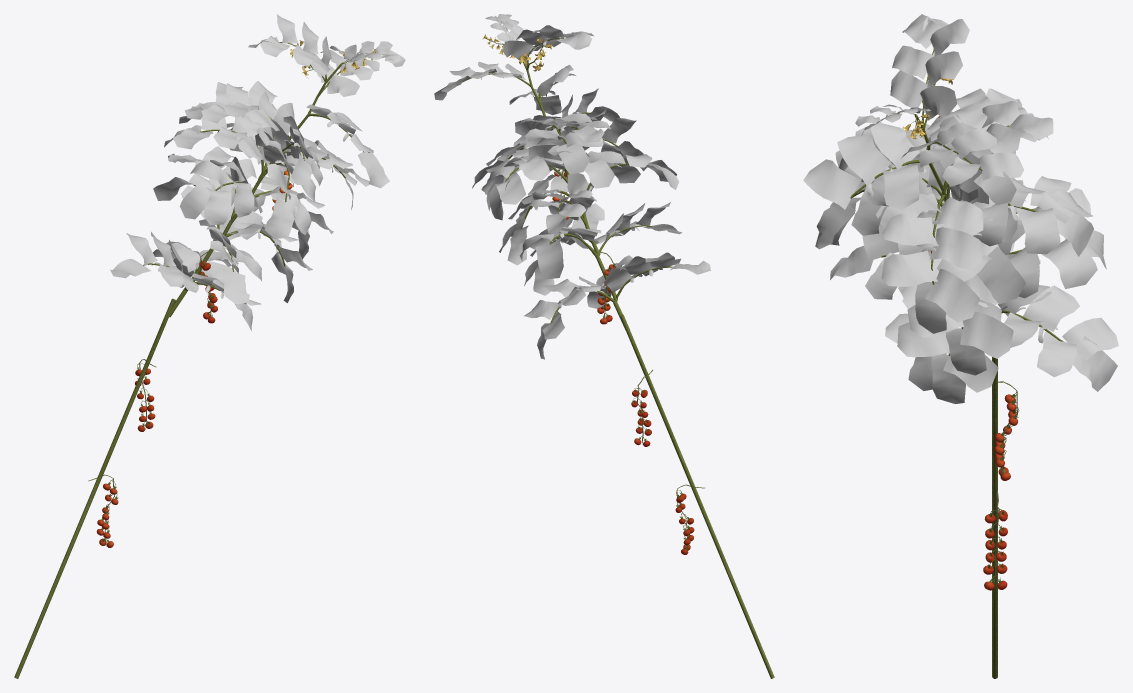
File: tomato_vine_repo_v9.dae
The picture shows the model from 3 angles, left to right: view 1: azimuth 30°, elevation 25°; view 2: azimuth 150°, elevation 25°; view 3: azimuth 270°, elevation 25°; orthographic projection. The views are drawn at different scales.
Parts seen in each view (by area): view 1: Leaf1, Branch1, Sphere.001; view 2: Leaf1, Branch1, Sphere.001; view 3: Leaf1, Branch1, Sphere.001.
Part boxes in pixels (x1,y1,x2,y2): Leaf1: (110,14,405,330); Branch1: (14,42,385,678); Sphere.001: (96,261,217,547); Leaf1: (434,14,710,359); Branch1: (461,21,774,678); Sphere.001: (597,264,694,554); Leaf1: (803,14,1118,403); Branch1: (850,48,1063,678); Sphere.001: (983,394,1017,590).
Size of the model in its own units: 1.59 by 0.9202 by 2.64.
